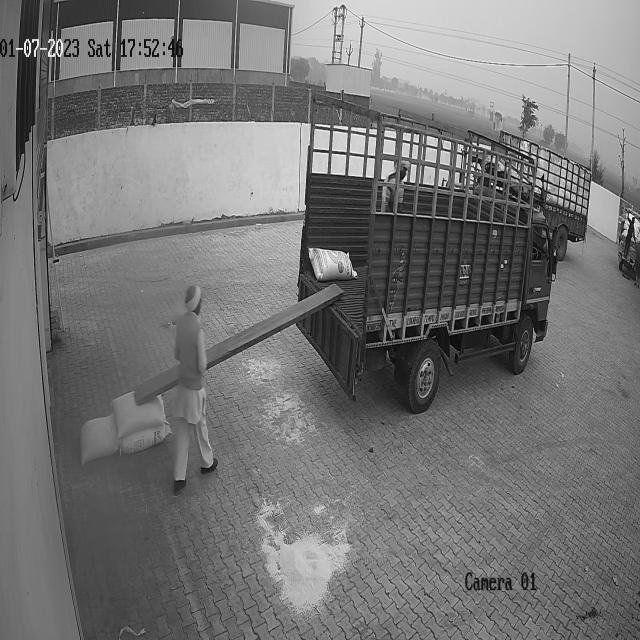sack: (112, 389, 166, 436), (80, 412, 120, 463), (308, 246, 357, 281), (120, 424, 170, 454)
